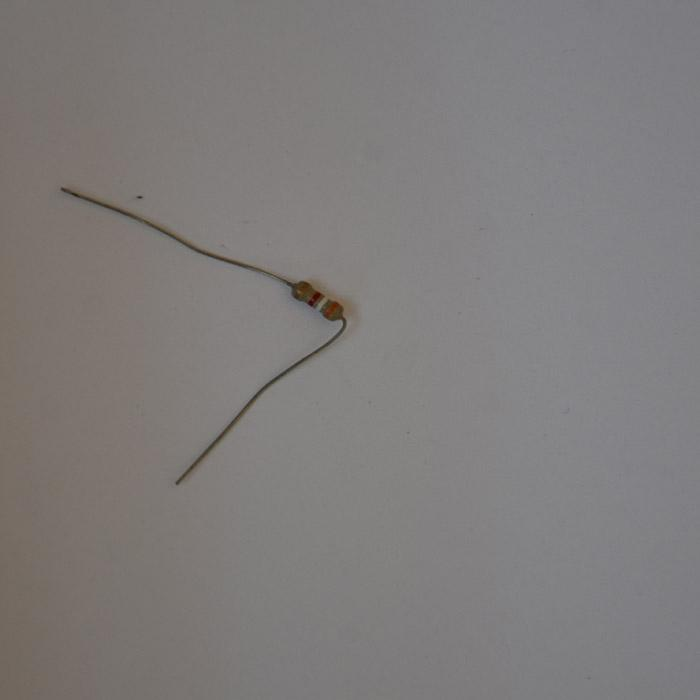resistor: (288, 275, 345, 325)
